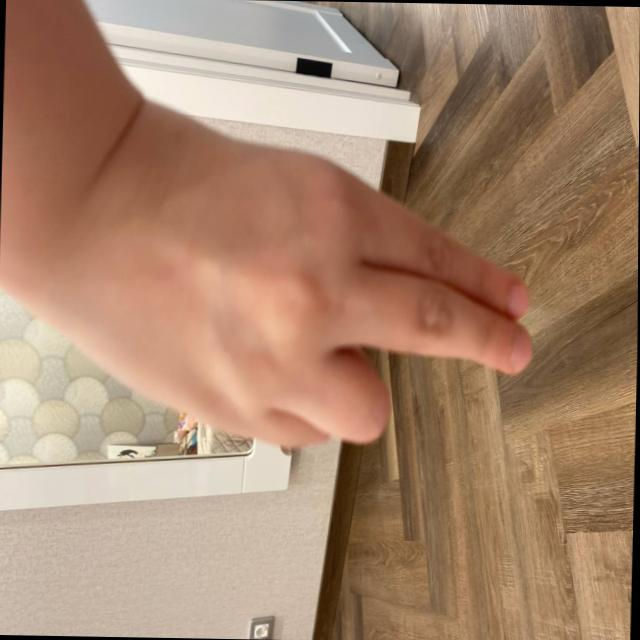p: (70, 96, 550, 466)
